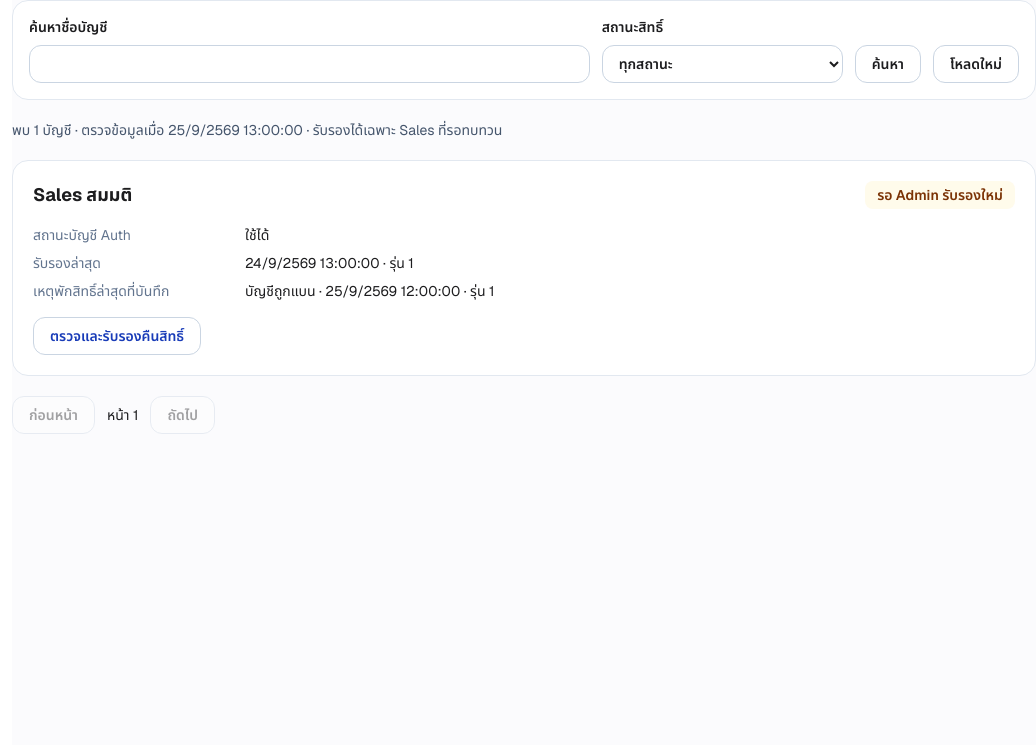
Test: Sales restoration presentation › stale-revision rejection cannot be blindly retried
Click the button "ตรวจและรับรองคืนสิทธิ์".
click(117, 336)  # box [33,317,201,355]
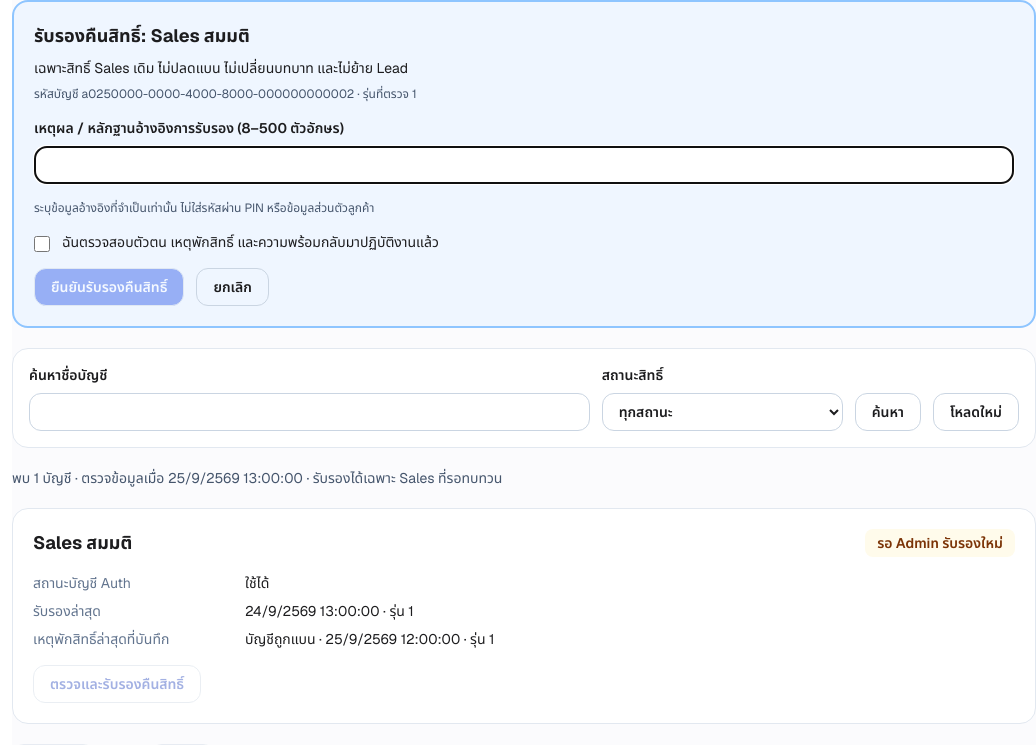
Type "ตรวจสอบตัวตนและความพร้อมแล้ว" into the field labelled "เหตุผล / หลักฐานอ้างอิงการรับรอง (8–500 ตัวอักษร)".
click(524, 165); type("ตรวจสอบตัวตนและความพร้อมแล้ว")  # box [34,146,1014,184]
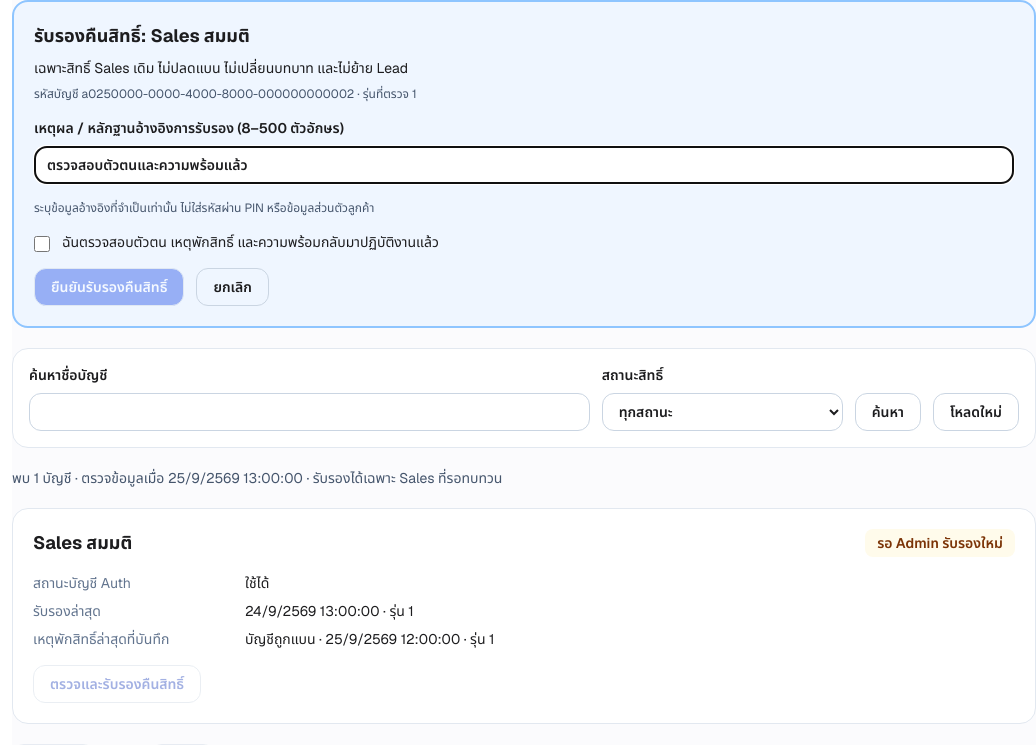
Click the checkbox.
click(42, 244)  # box [34,236,50,252]
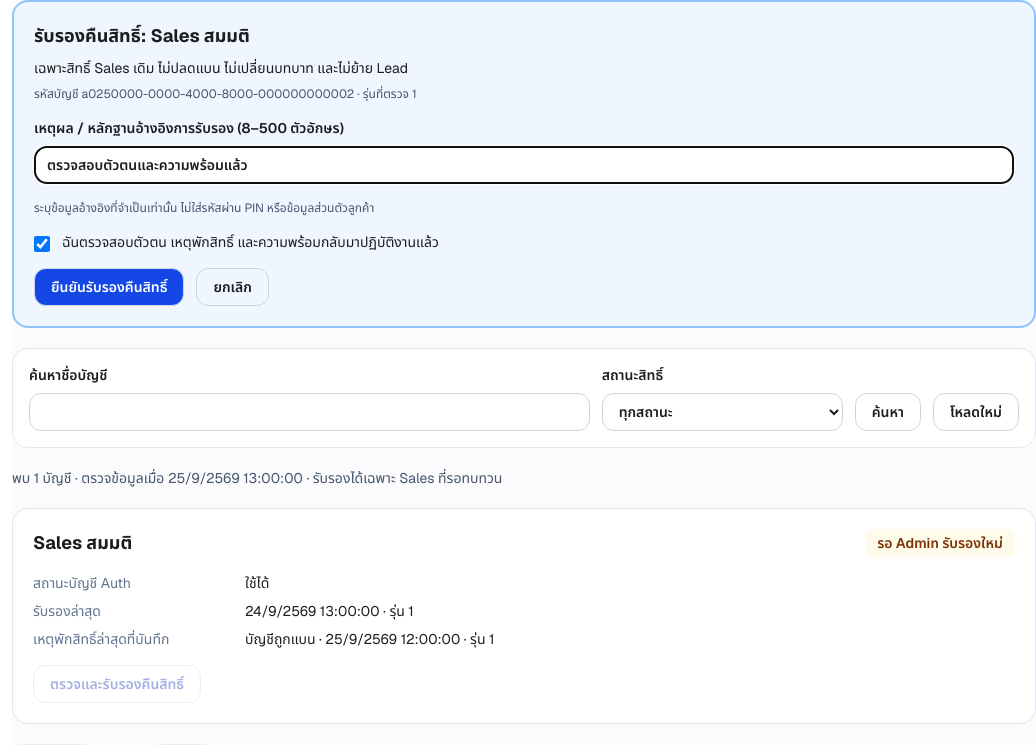
Click the button "ยืนยันรับรองคืนสิทธิ์".
click(109, 287)  # box [34,268,184,306]
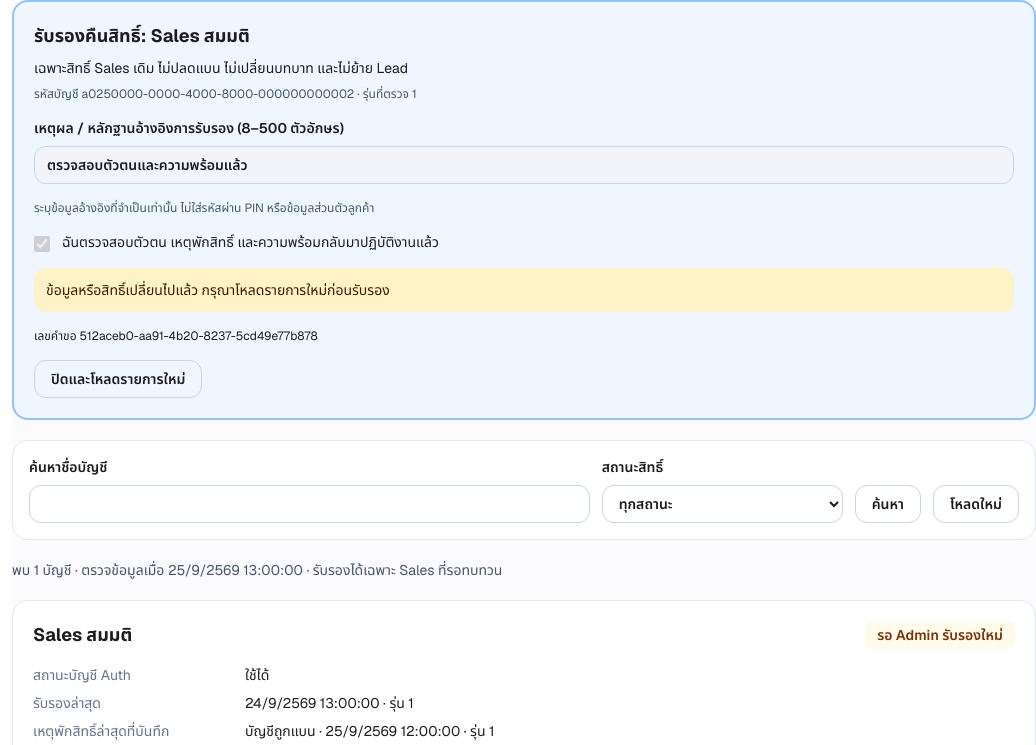
Check: the button "ปิดและโหลดรายการใหม่" is enabled, box [34,360,202,398]
Check: the message "ข้อมูลหรือสิทธิ์เปลี่ยนไปแล้ว กรุณาโหลดรายการใหม่ก่อนรับรอง" is shown, box [34,268,1014,312]
